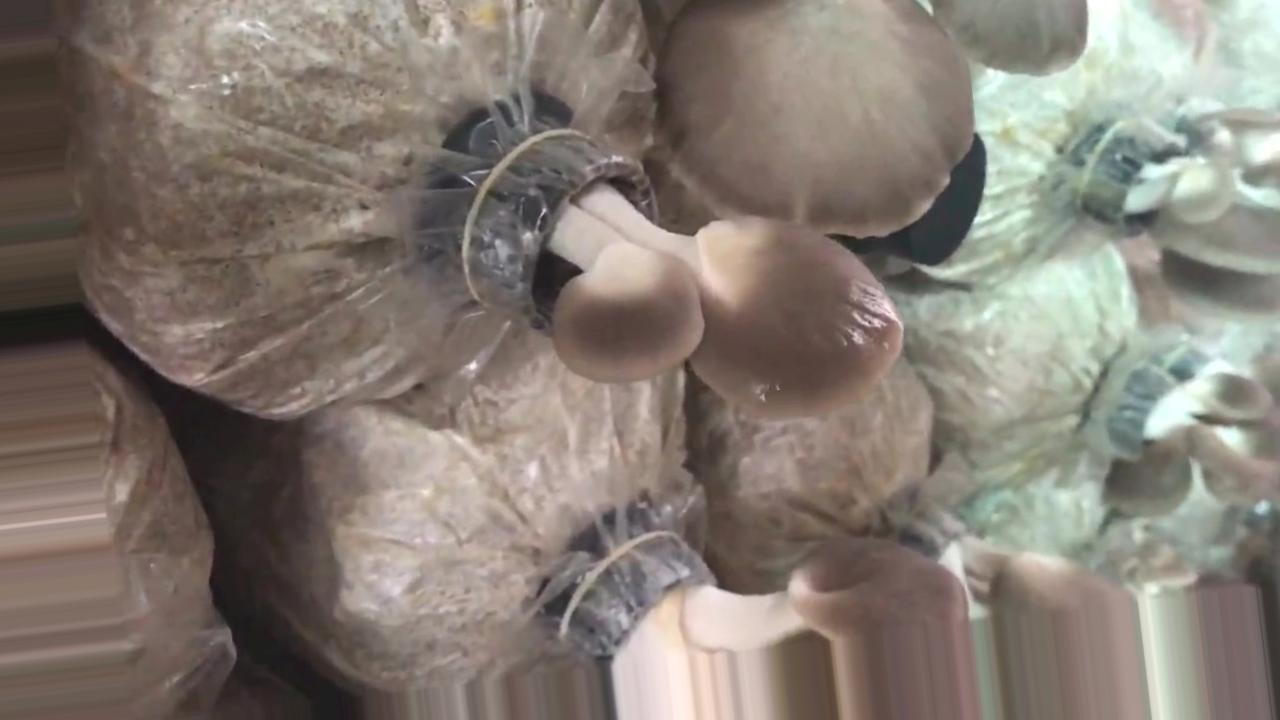nam: (456, 123, 905, 428), (550, 518, 1150, 720), (639, 2, 1093, 238), (1080, 106, 1280, 315), (1103, 339, 1280, 518)
